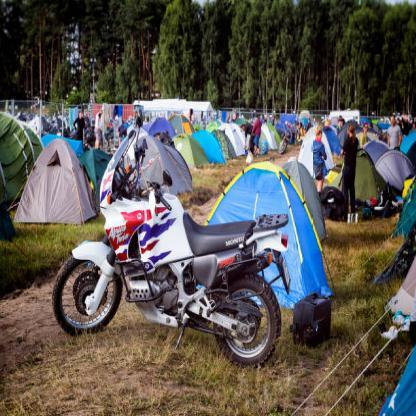Motorcycle: (59, 161, 289, 365)
